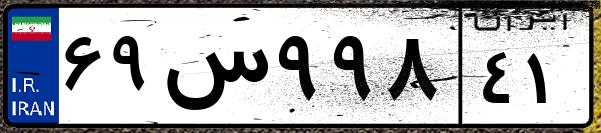1: (525, 38, 570, 115)
4: (475, 38, 525, 113)
6: (57, 26, 110, 100)
8: (385, 28, 445, 110)
9: (270, 28, 330, 110), (330, 28, 385, 110), (110, 28, 158, 98)
س: (158, 20, 270, 120)
